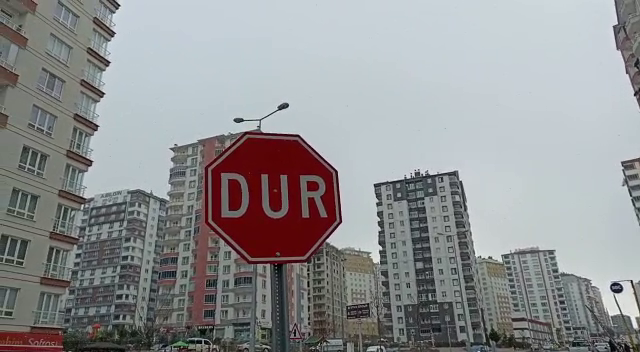stop: (202, 128, 346, 267)
